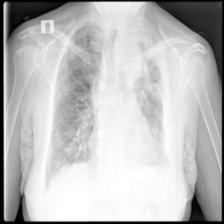tuberculosis: (42, 17, 174, 195)
